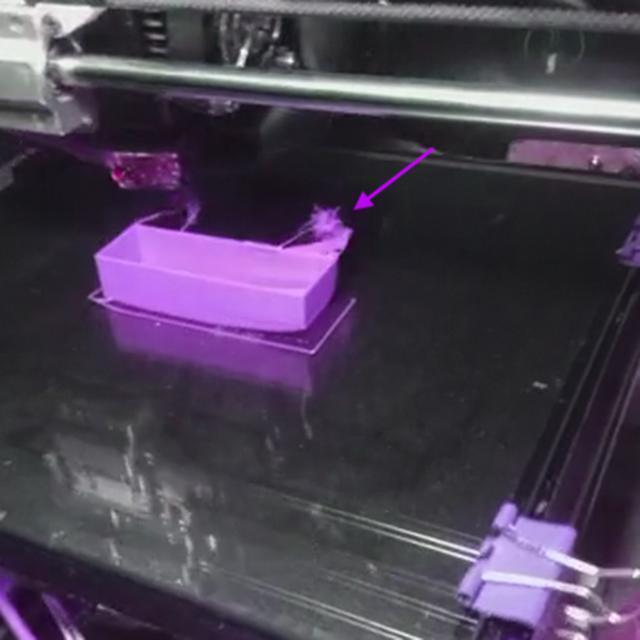spaghetti: (307, 205, 344, 237)
